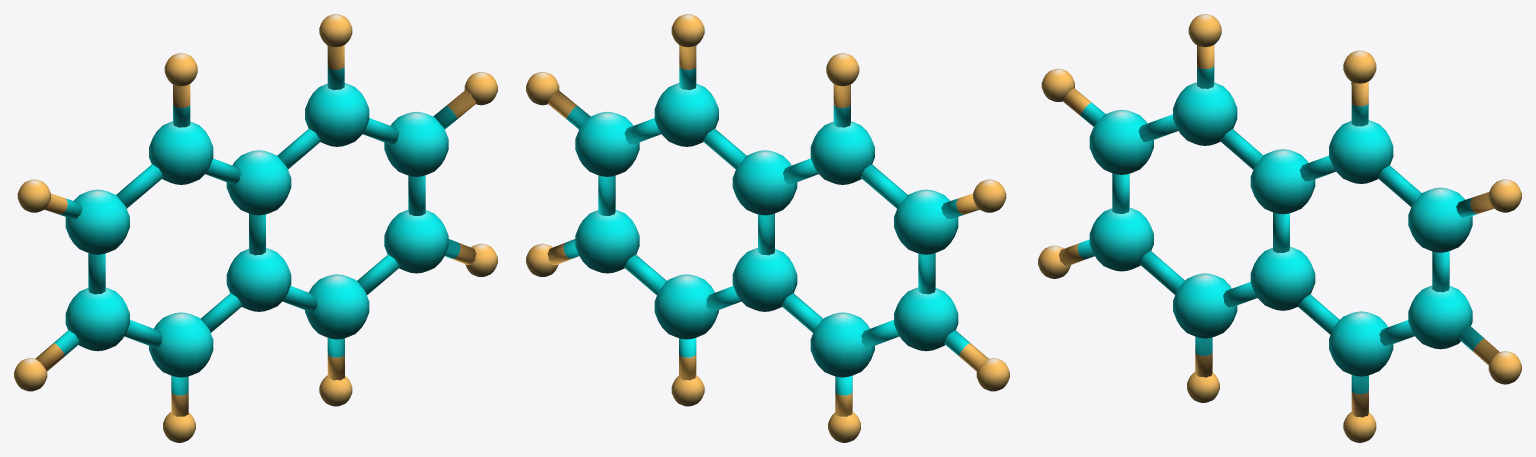
The model's file is Naphthalene.dae.
The picture shows the model from 3 angles, left to right: view 1: azimuth 30°, elevation 25°; view 2: azimuth 150°, elevation 25°; view 3: azimuth 330°, elevation 25°; orthographic projection.
Visible parts, largest first — view 1: polySurface155; view 2: polySurface155; view 3: polySurface155.
Boxes of the visible parts, left/top/right/bottom form: polySurface155: left=14, top=14, right=497, bottom=442; polySurface155: left=526, top=14, right=1009, bottom=442; polySurface155: left=1038, top=14, right=1521, bottom=442.
Size of the model in its own units: 5.6 by 4.35 by 0.6516.
1 material, 1 textured.
